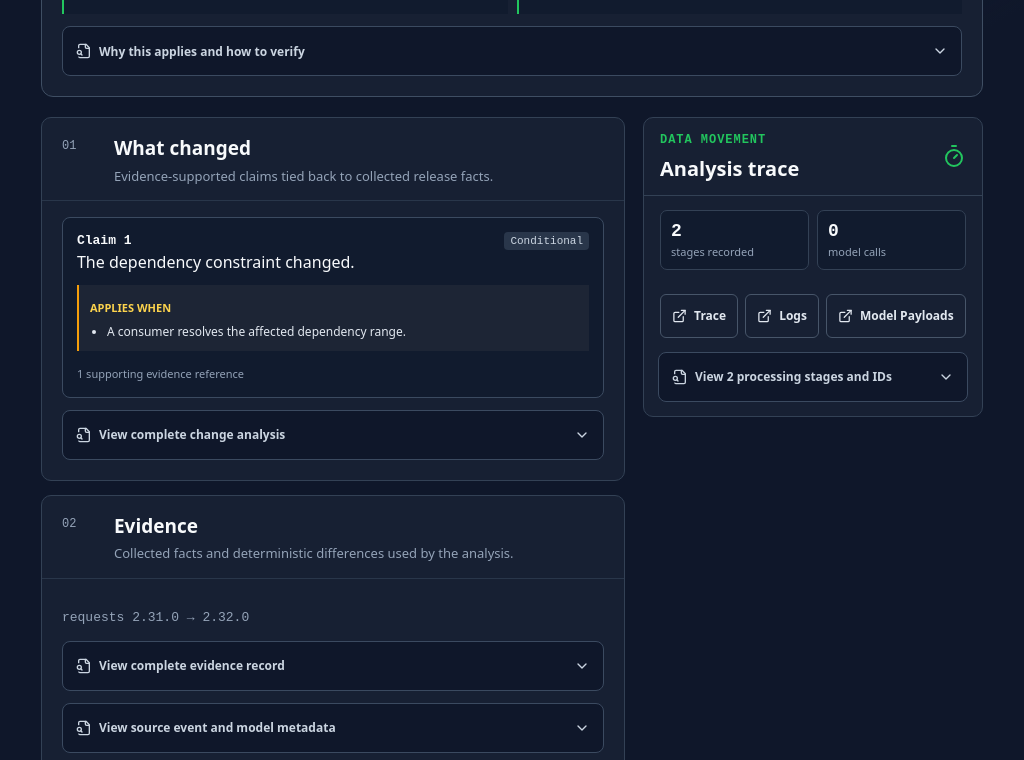
Test: finding detail › discloses persisted data movement and the trace destination
(page scrolled)
Click the button "View 2 processing stages and IDs" at (813, 377), box [659, 353, 967, 401]
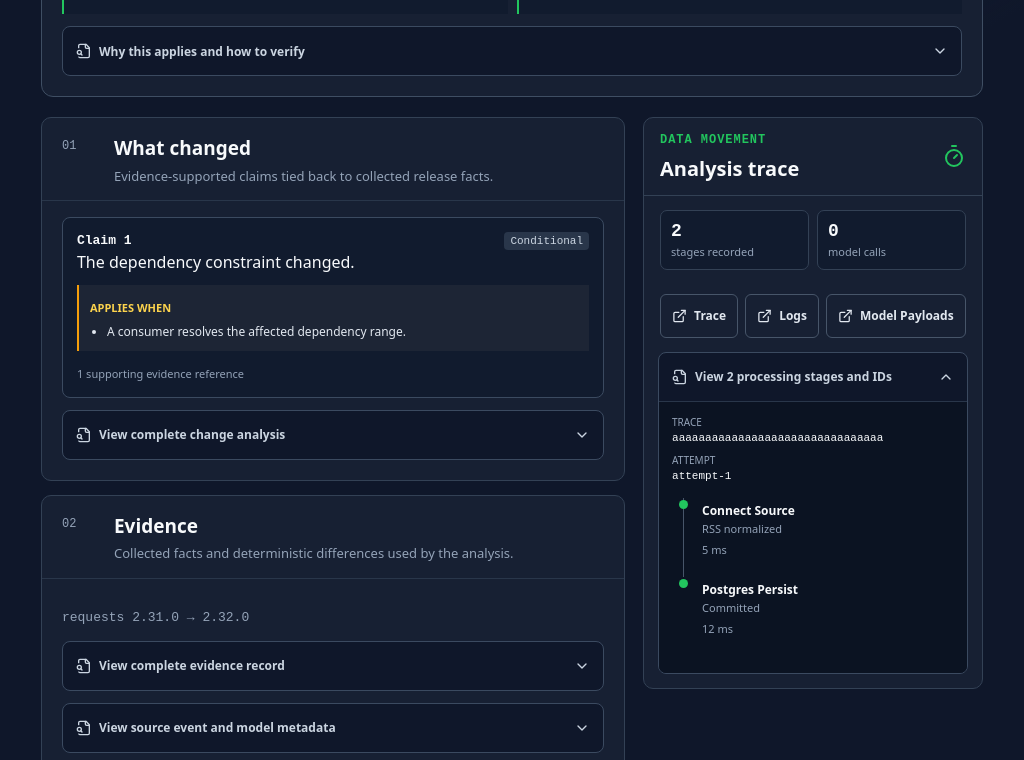
expect the button "View 2 processing stages and IDs" is expanded: met, box [659, 353, 967, 401]
expect the text "Connect Source" is shown: met, box [702, 502, 795, 519]
expect the text "Postgres Persist" is shown: met, box [702, 581, 798, 598]
